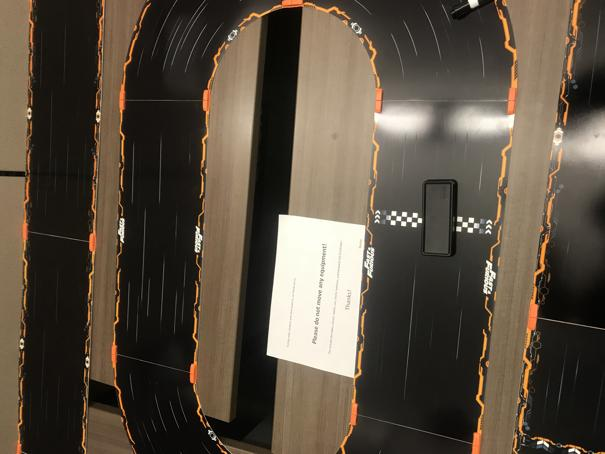Finish Line: (373, 208, 494, 239)
